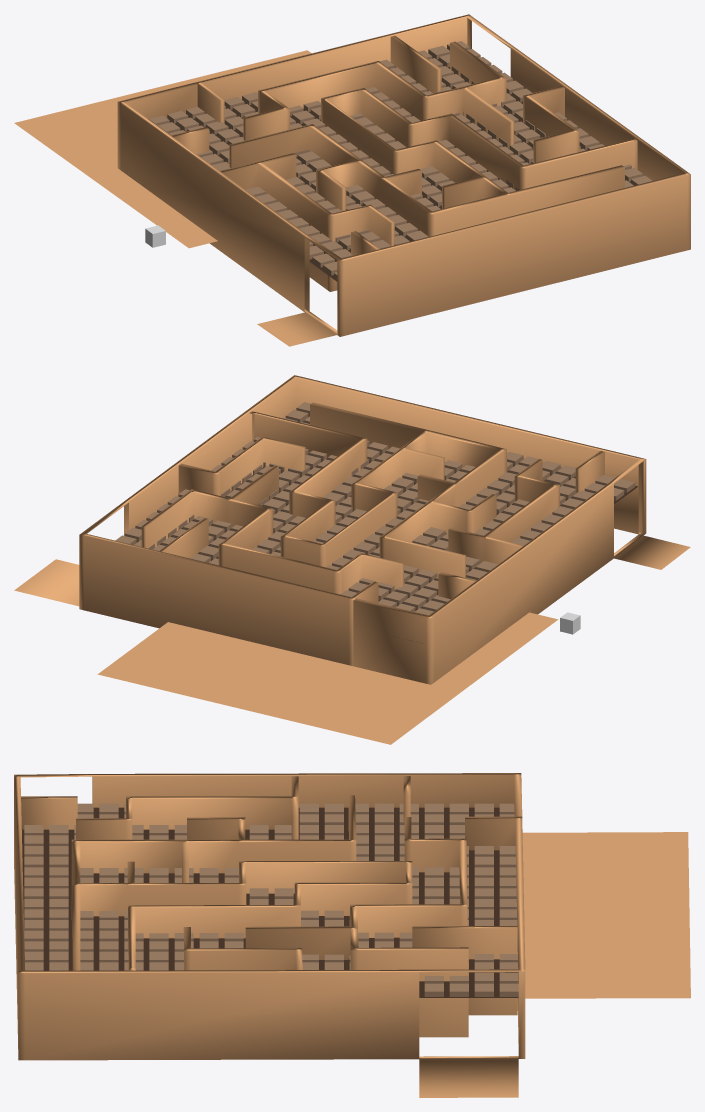
File: Labyrinth Variant.fbx
3 renders of one model, top to bottom at view 1: azimuth 30°, elevation 25°; view 2: azimuth 150°, elevation 25°; view 3: azimuth 270°, elevation 25°, orthographic. The views are drawn at different scales.
Parts seen in each view (by area): view 1: Cube_001, Plane_002; view 2: Cube_001, Plane_002; view 3: Cube_001, Plane_002.
Part boxes in pixels (x1,y1,x2,y2): Cube_001: (117,14,690,346); Plane_002: (14,50,311,248); Cube_001: (14,375,690,684); Plane_002: (97,612,558,744); Cube_001: (14,773,525,1097); Plane_002: (522,832,690,998).
Size of the model in its own units: 3329 by 498 by 3518.
